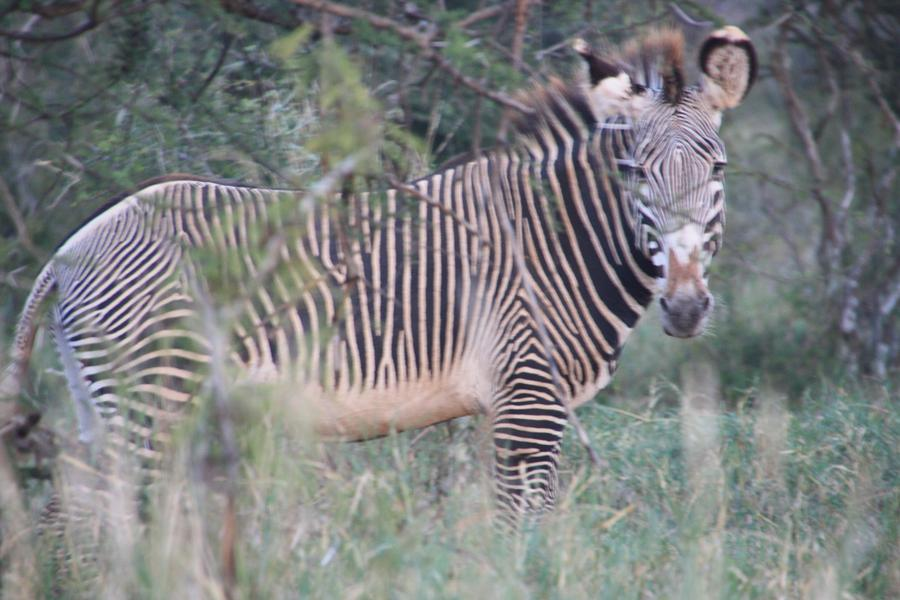zebra_grevys: (36, 153, 588, 393)
